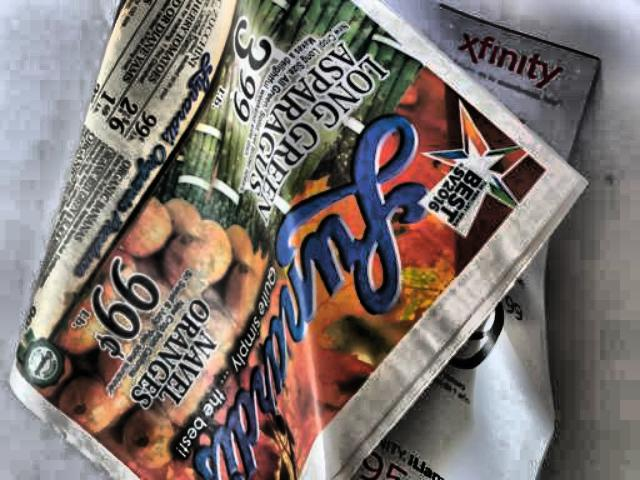Paper: (48, 0, 576, 480)
